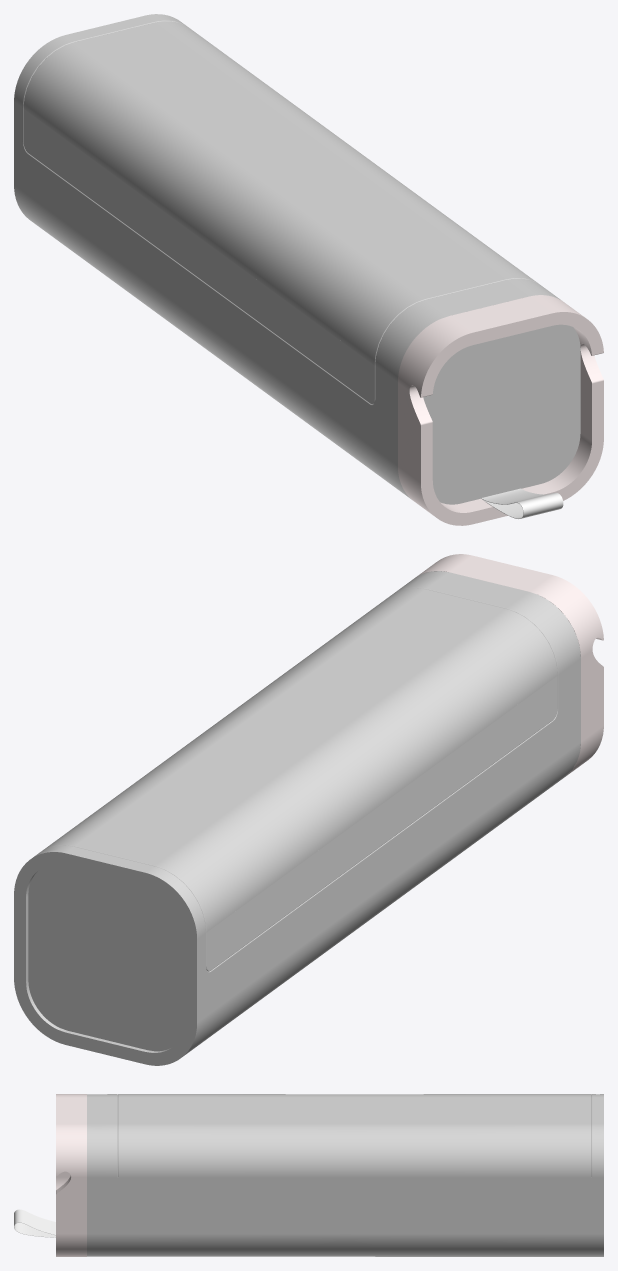
File: model_notlack.glb
The picture shows the model from 3 angles, top to bottom: view 1: azimuth 30°, elevation 25°; view 2: azimuth 150°, elevation 25°; view 3: azimuth 270°, elevation 25°; orthographic projection. The views are drawn at different scales.
Visible parts, largest first — view 1: 外壳 (×4), 磁条, 拉绳; view 2: 外壳 (×4), 磁条; view 3: 外壳 (×3), 拉绳.
Part boxes in pixels (x1,y1,x2,y2): 外壳 (×4): (14, 14, 603, 525); 磁条: (23, 109, 375, 404); 拉绳: (481, 488, 563, 518); 外壳 (×4): (14, 554, 603, 1065); 磁条: (206, 676, 557, 971); 外壳 (×3): (56, 1094, 603, 1256); 拉绳: (14, 1209, 55, 1237).
Bounding box in the file's own units: 0.046 × 0.046 × 0.1905.
Materials: 5 (1 with a texture image).
